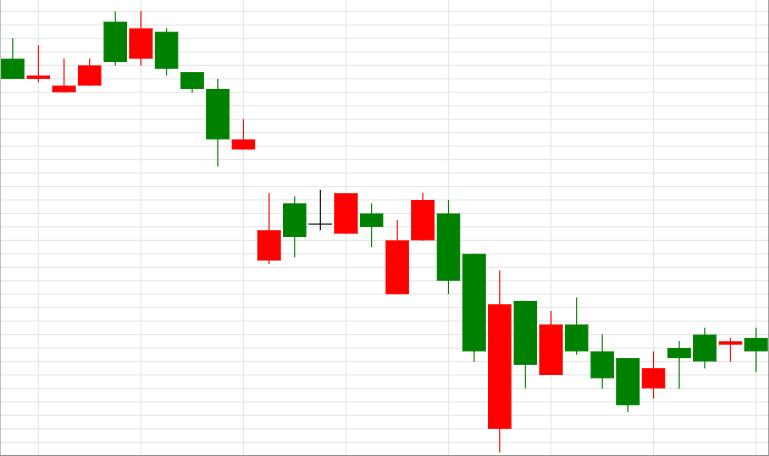inverse_hammer_rise: (155, 28, 281, 264)
